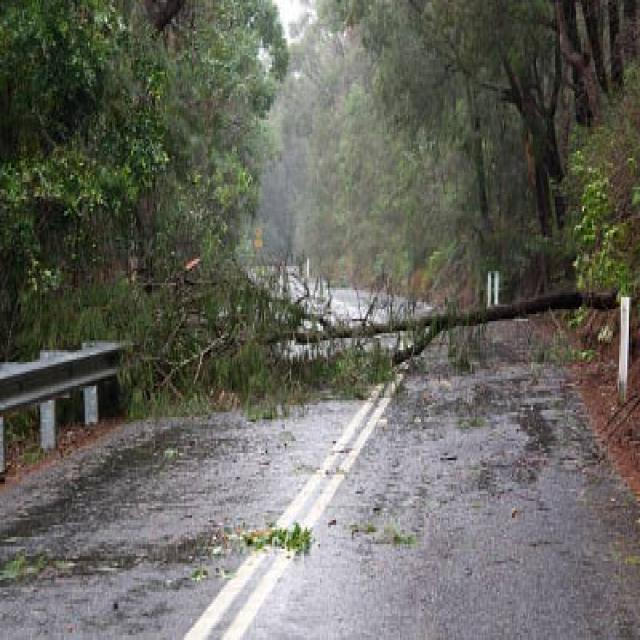fallen_tree: (66, 162, 640, 437)
